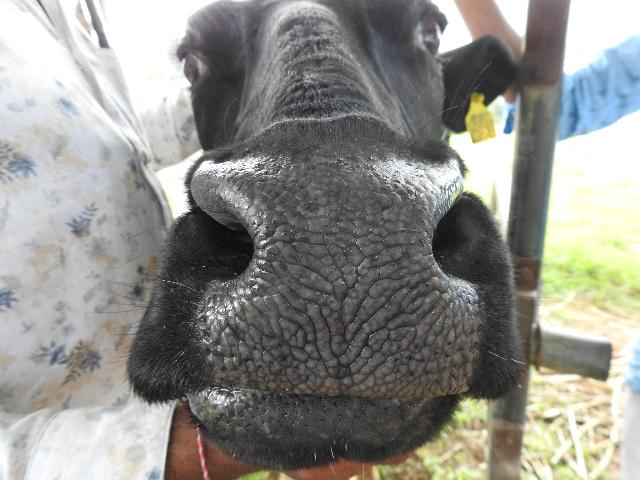Muzzle: (242, 171, 438, 371)
